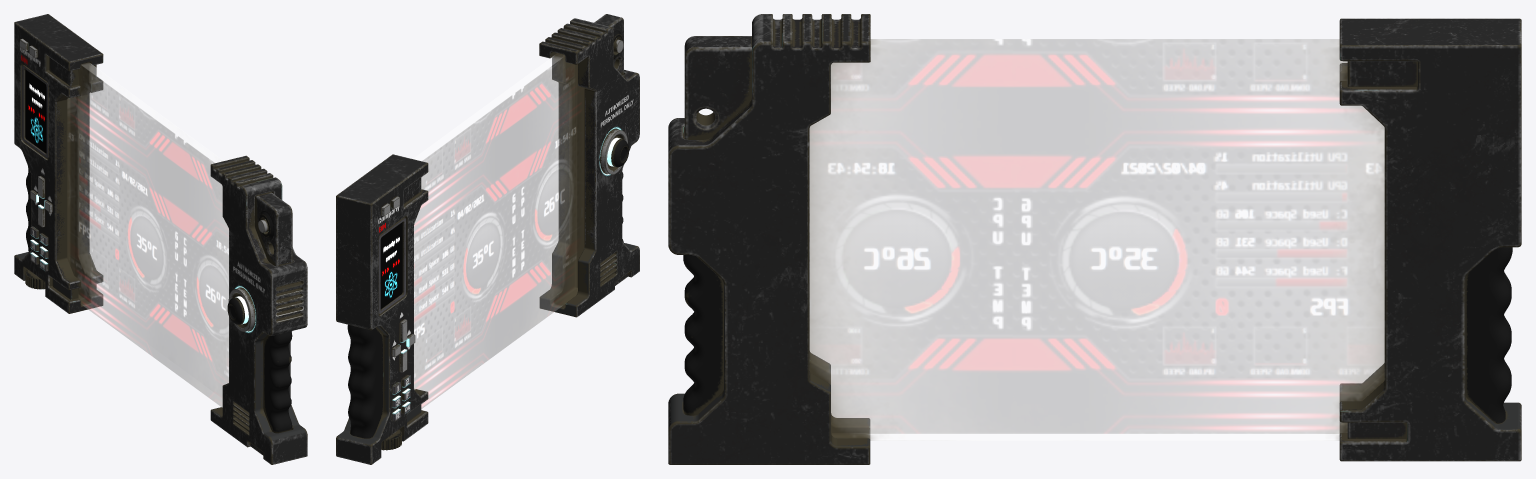
The model's file is computer.glb.
3 views of the same model, side by side, from view 1: azimuth 30°, elevation 25°; view 2: azimuth 150°, elevation 25°; view 3: azimuth 270°, elevation 25° (orthographic). The views are drawn at different scales.
Parts seen in each view (by area): view 1: base, glass; view 2: base, glass; view 3: glass, base.
Boxes of the visible parts, <box> form: base: <box>14,14,307,464</box>; glass: <box>67,62,228,406</box>; base: <box>336,14,639,464</box>; glass: <box>413,53,584,408</box>; glass: <box>810,39,1384,440</box>; base: <box>668,14,1521,464</box>.
Size of the model in its own units: 0.0683 by 0.3437 by 0.6289.
Materials: 2 (2 with a texture image).
